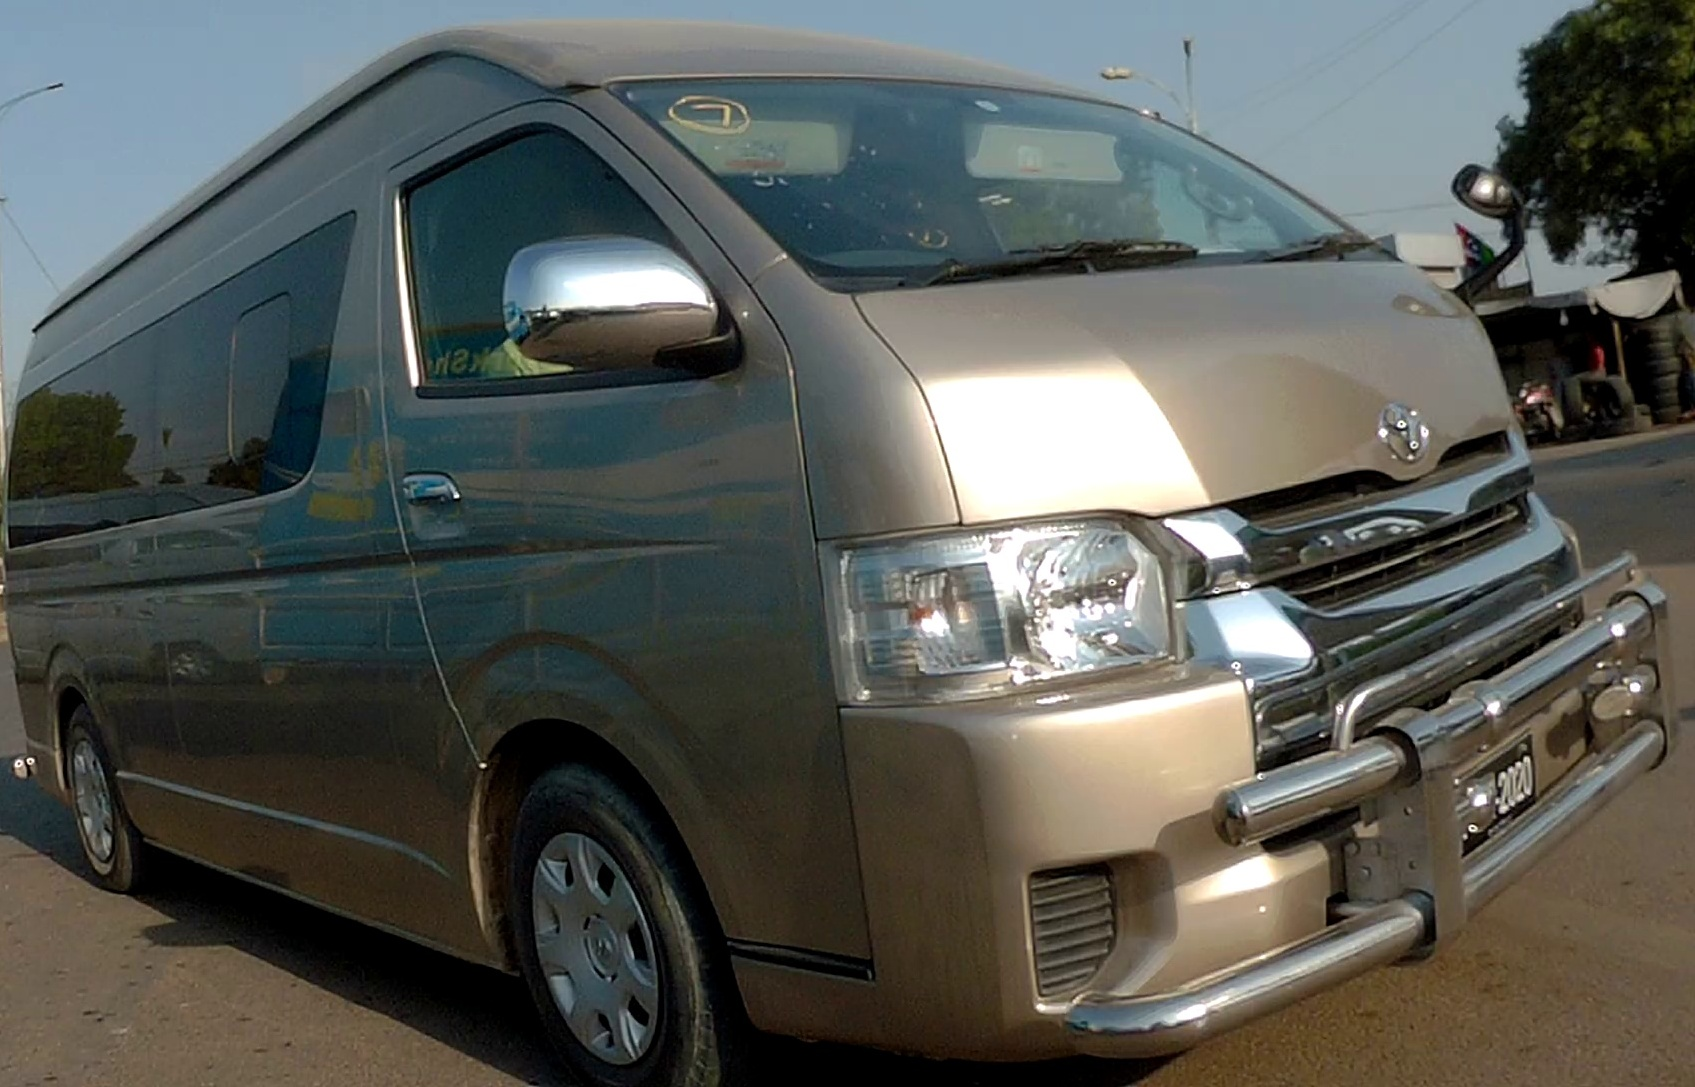van: (1, 19, 1678, 1087)
